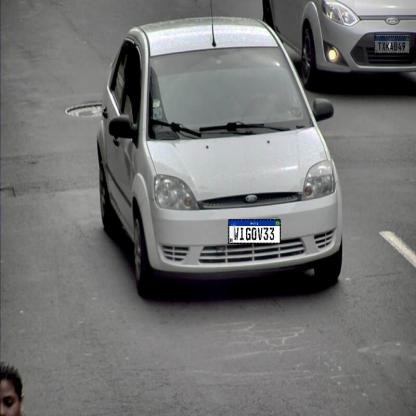PlacaM: (228, 219, 281, 244), (374, 36, 410, 53)
